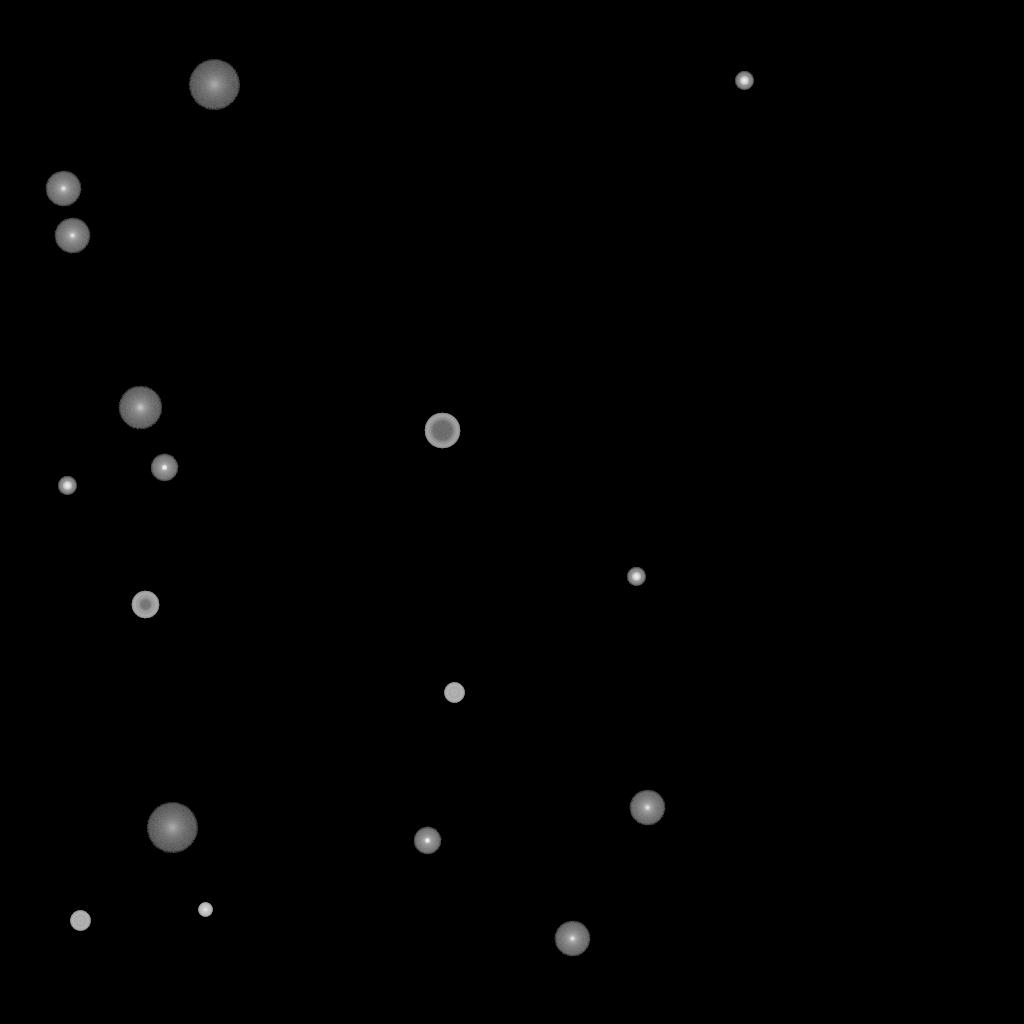depth:-10: (150, 454, 178, 482), (413, 827, 441, 855)
depth:-20: (58, 477, 76, 495), (735, 72, 753, 90), (627, 568, 645, 586)
depth:-30: (198, 903, 212, 917)
depth:-40: (70, 911, 90, 931), (444, 683, 464, 703)
depth:-50: (131, 591, 159, 619)
depth:-60: (424, 413, 460, 449)
depth:0: (54, 218, 90, 254), (45, 171, 81, 207), (554, 921, 590, 957), (629, 790, 665, 826)
depth:10: (118, 386, 162, 430)
depth:20: (188, 60, 240, 110), (146, 803, 198, 853)
